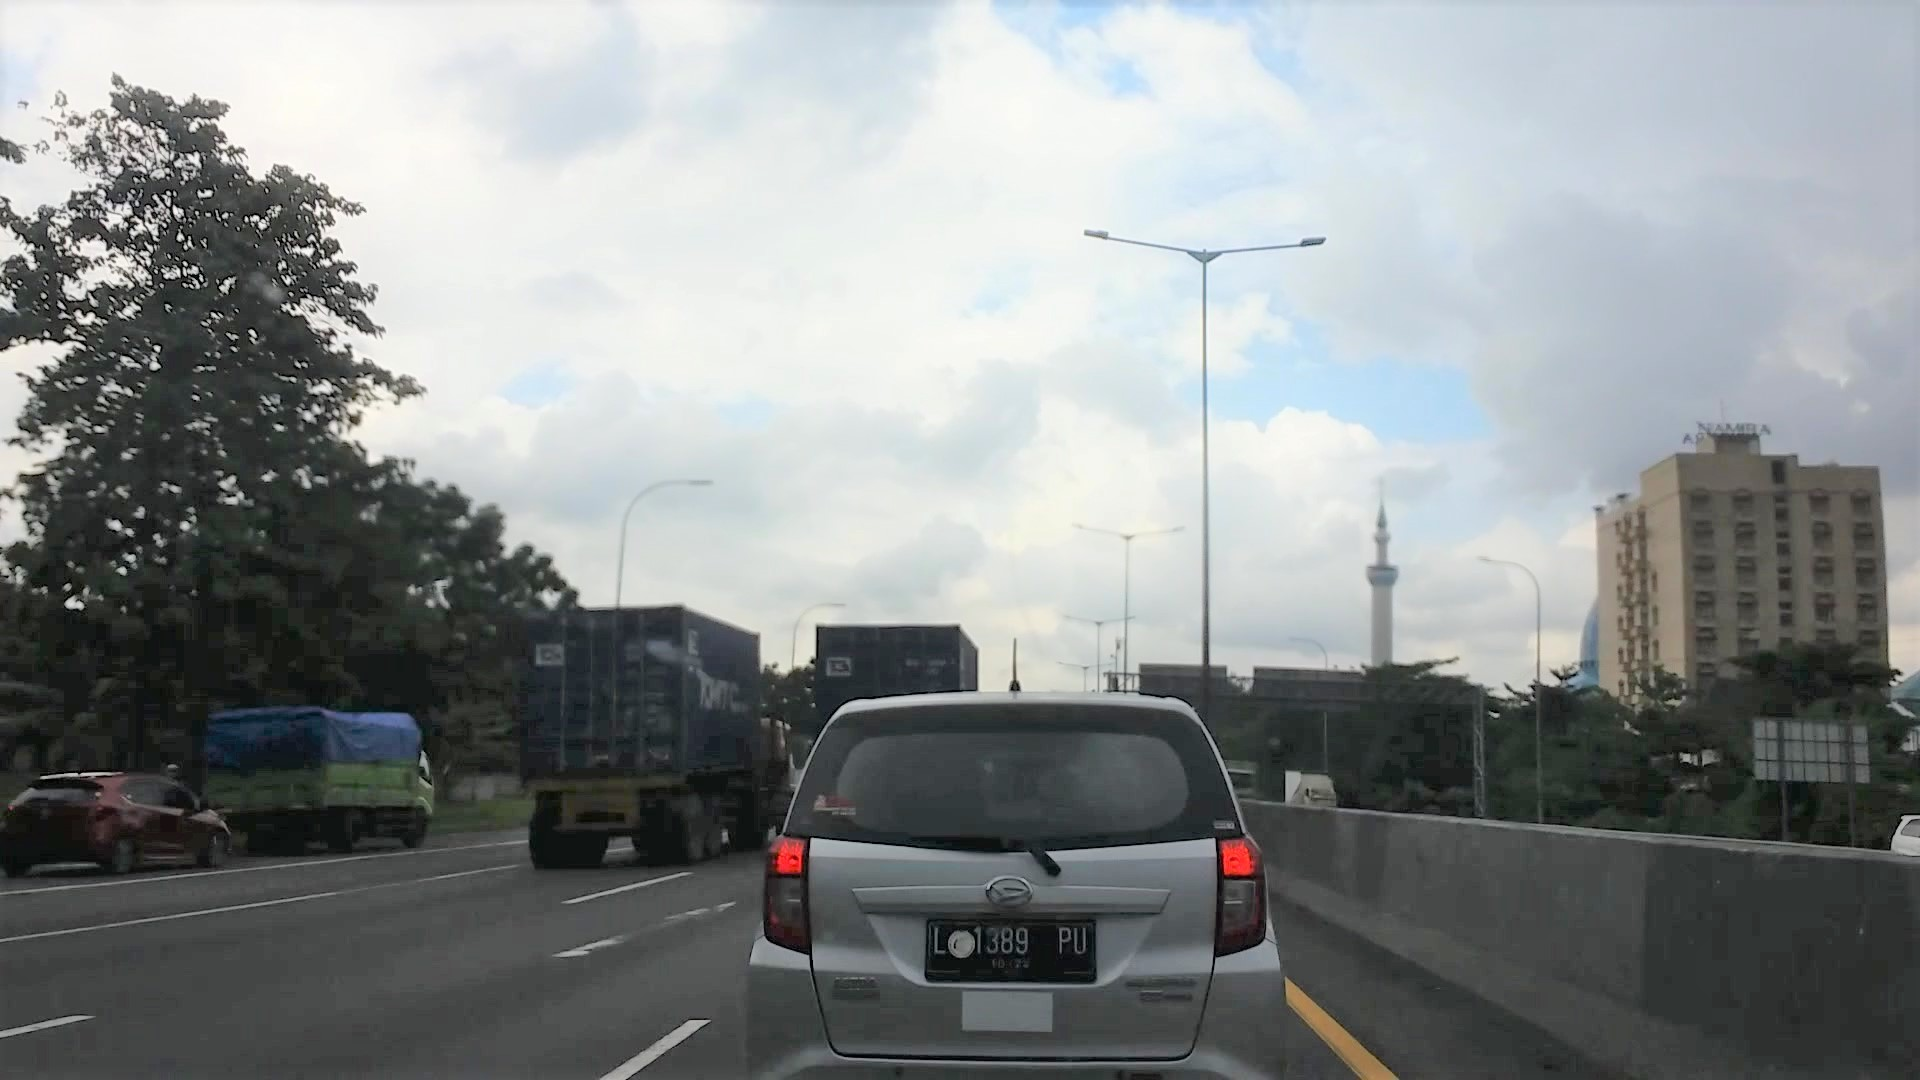plate_positive: (924, 918, 1097, 982)
